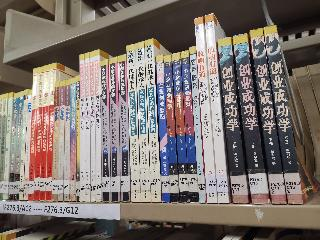book-spine: (228, 33, 272, 206), (261, 25, 303, 206), (246, 28, 288, 206), (212, 38, 251, 206), (201, 13, 230, 205), (192, 16, 218, 204), (169, 53, 190, 204), (143, 38, 162, 204), (187, 46, 207, 203), (133, 40, 151, 202), (179, 50, 198, 203), (162, 54, 180, 204), (154, 55, 172, 204), (125, 44, 141, 203), (38, 63, 51, 201), (45, 62, 57, 201), (118, 54, 129, 202), (109, 57, 120, 202), (100, 58, 111, 202), (93, 50, 103, 203), (33, 66, 43, 202), (87, 51, 96, 202), (8, 92, 20, 201), (18, 89, 29, 201), (29, 67, 38, 202), (50, 80, 60, 201), (23, 88, 33, 200), (57, 80, 66, 201), (3, 92, 13, 200), (84, 53, 91, 202), (79, 54, 86, 202), (14, 92, 23, 203), (63, 79, 71, 201), (0, 93, 9, 200), (69, 78, 76, 202), (75, 75, 79, 202)
